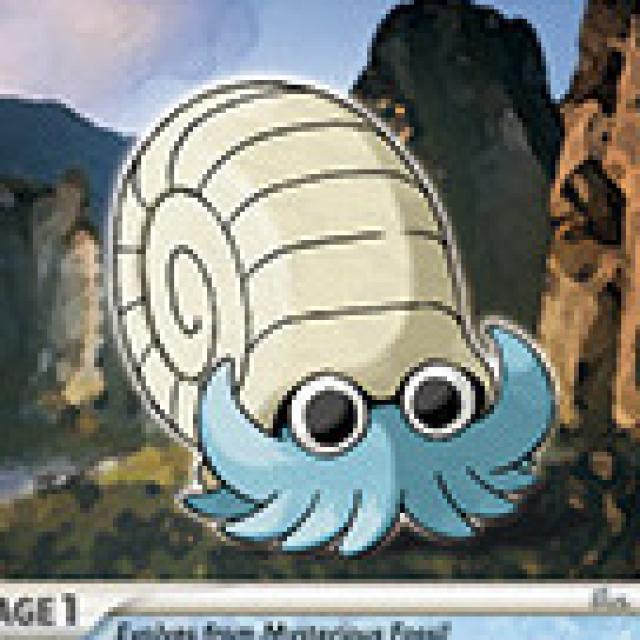Omanyte: (124, 77, 516, 549)
